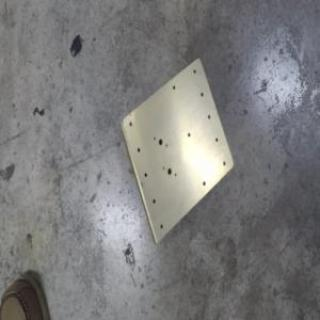MetalSheettrack_idkeyframe: (116, 53, 234, 248)
